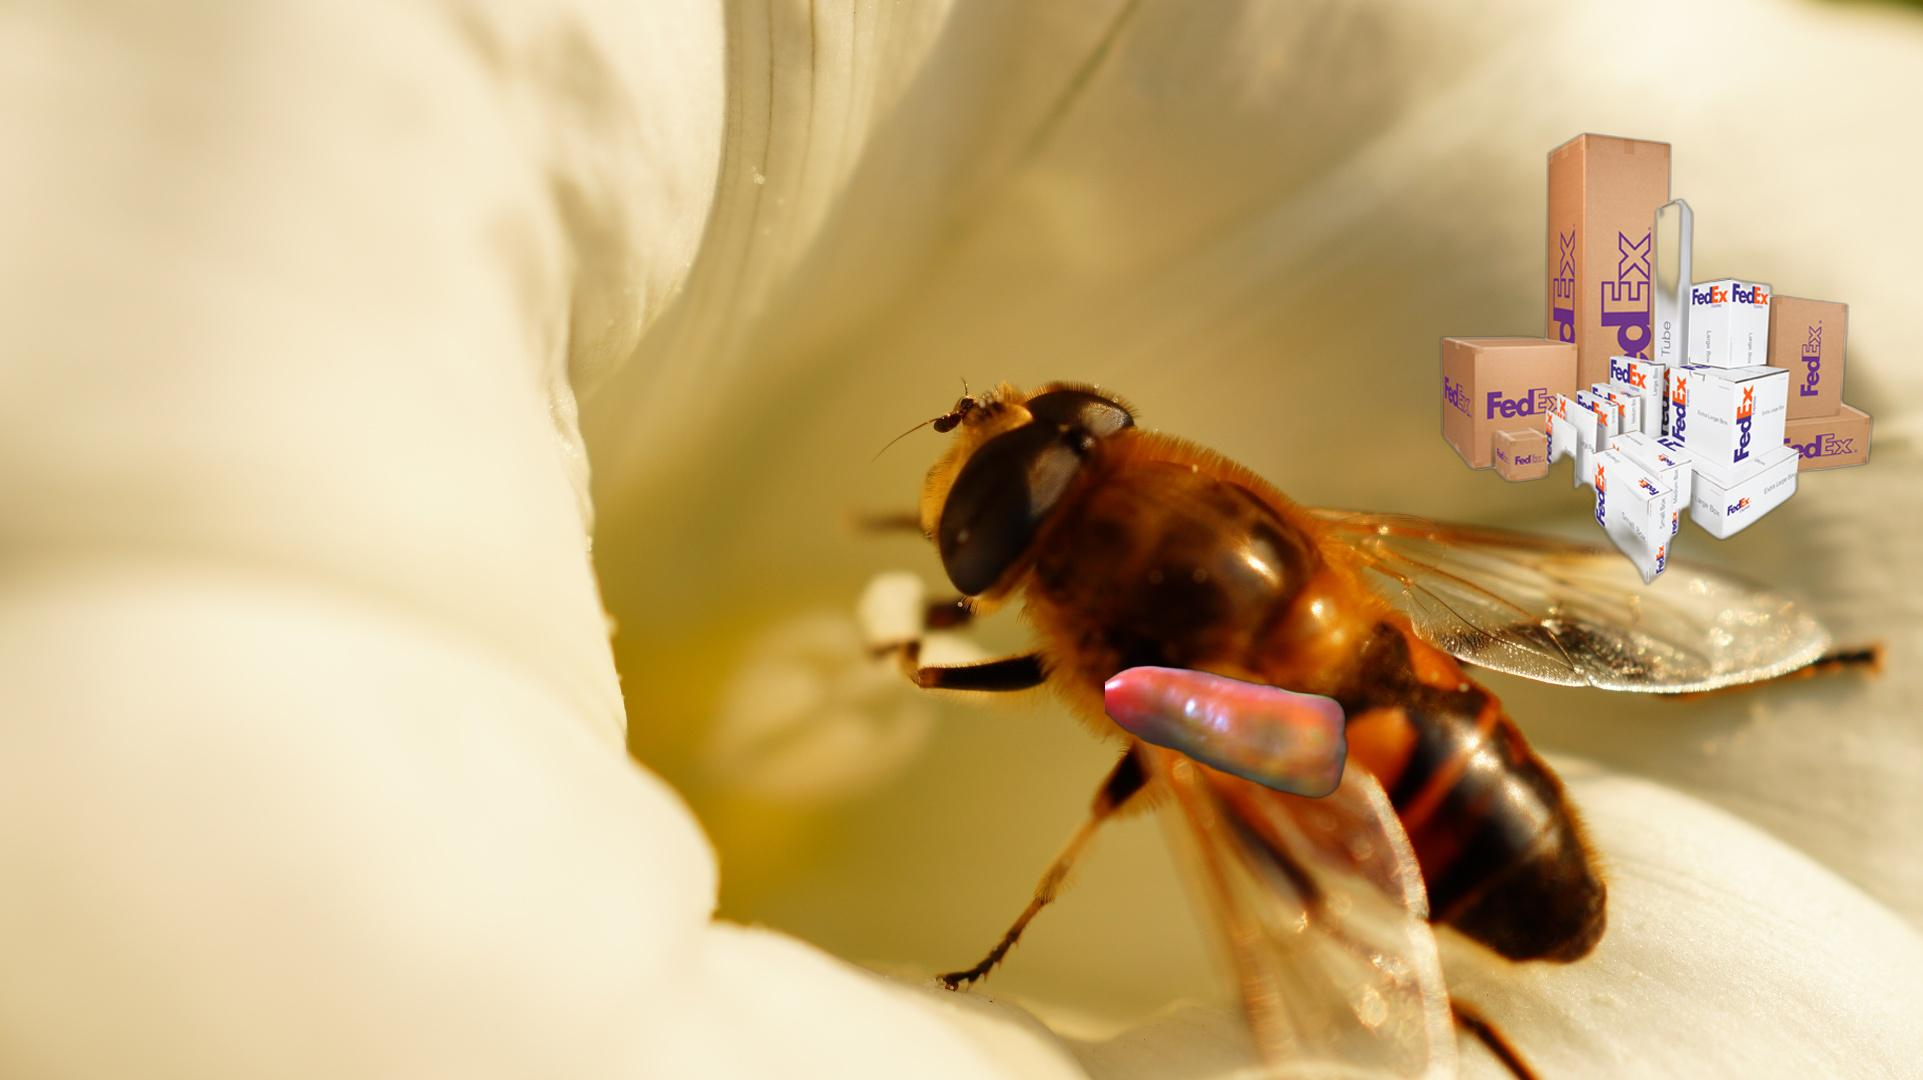biological: (1105, 663, 1351, 848)
trashbox-cardboard: (1434, 129, 1879, 590)
